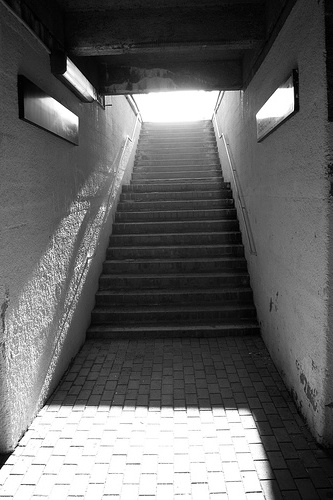stairs_up: (97, 113, 253, 340)
